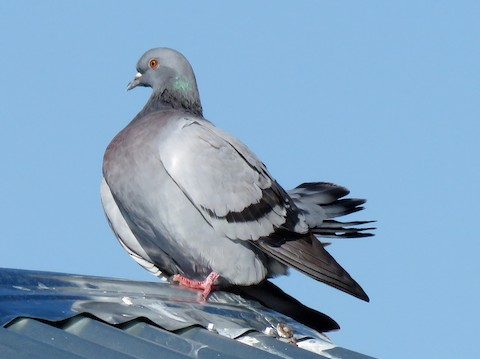pigeon: (94, 45, 382, 336)
